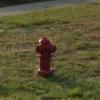Hydrant: (26, 31, 61, 76)
